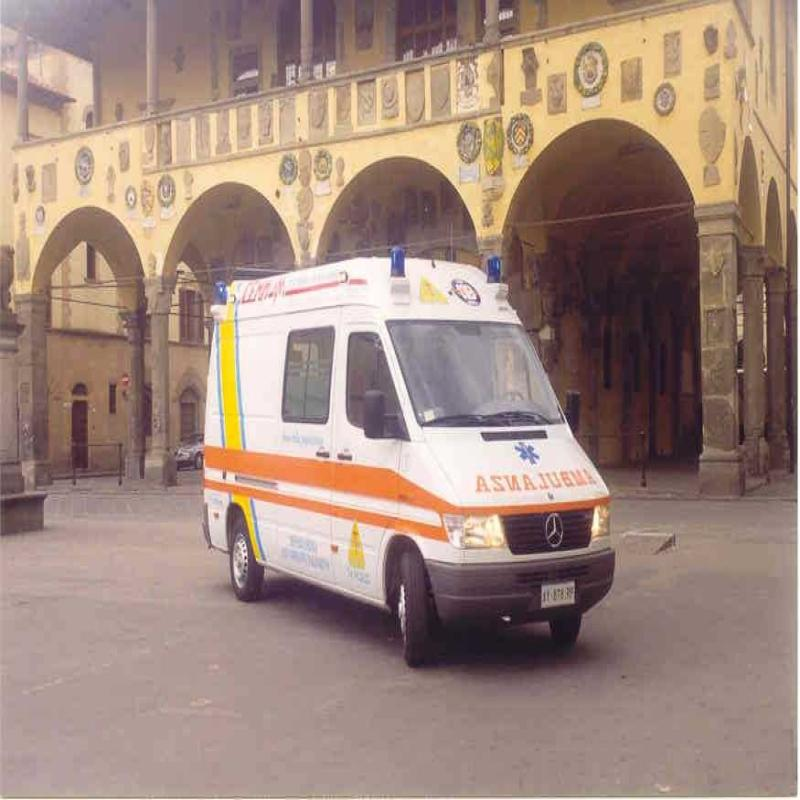AmbulanceSiren: (386, 242, 412, 290), (210, 278, 232, 314), (485, 254, 504, 295)
